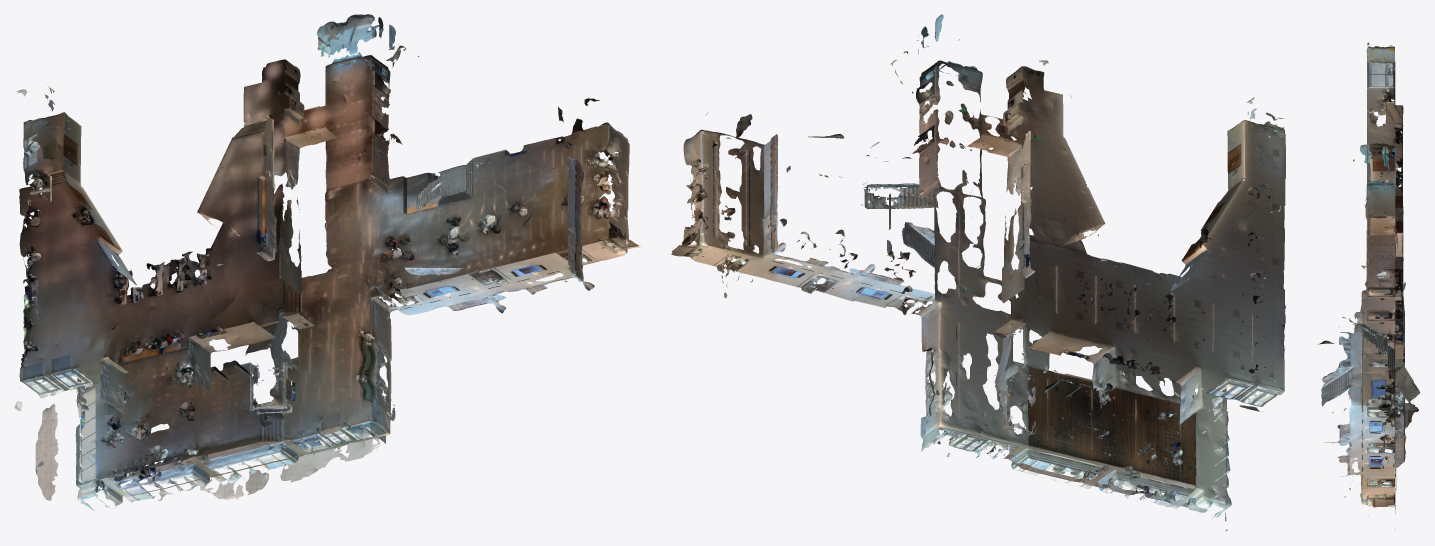
File: level1-scan-2026-05-06-part2.glb
3 views of the same model, side by side, from view 1: azimuth 30°, elevation 25°; view 2: azimuth 150°, elevation 25°; view 3: azimuth 270°, elevation 25° (orthographic). The views are drawn at different scales.
Visible parts, largest first — view 1: mesh_0 (×36); view 2: mesh_0 (×46); view 3: mesh_0 (×30).
Boxes of the visible parts, box(x1,y1,x2,y2) form: mesh_0 (×36): box(14, 14, 640, 510); mesh_0 (×46): box(671, 61, 1285, 531); mesh_0 (×30): box(1321, 43, 1419, 513).
Bounding box in the file's own units: 57.09 × 41.31 × 10.27.
59 materials, 59 textured.
